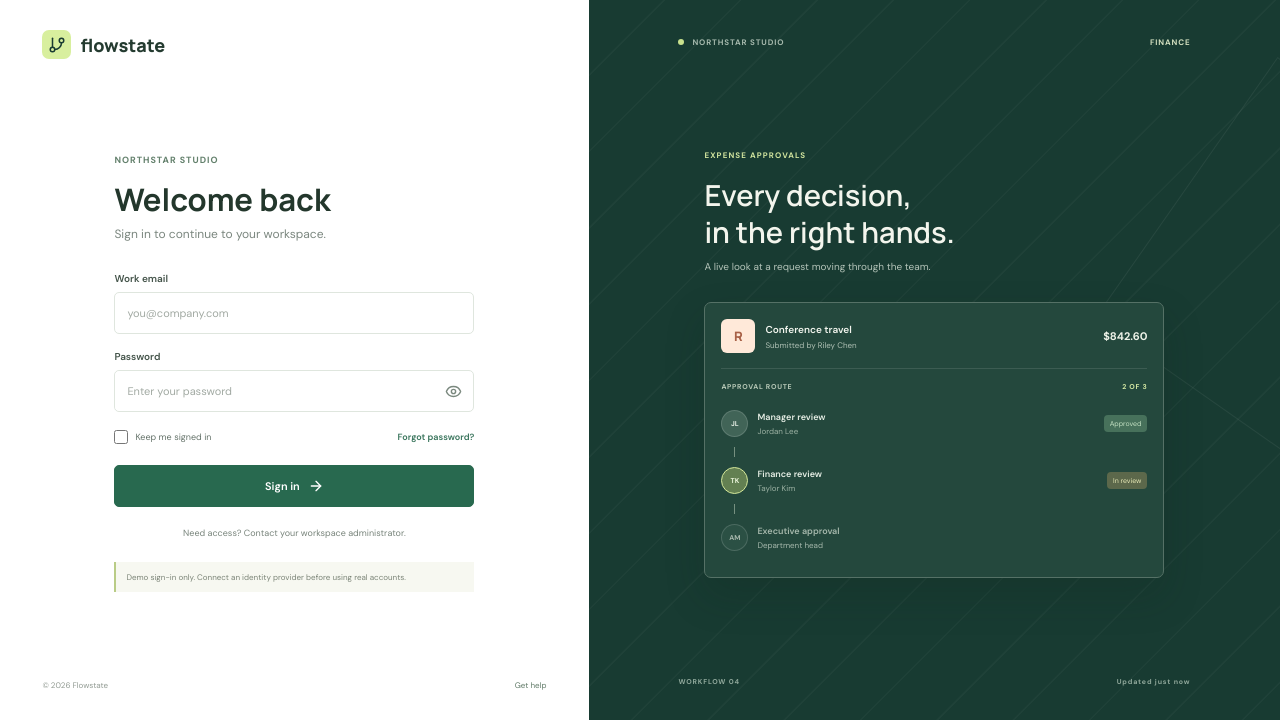
Test: login screen › shows feedback when password reset is requested
Click the button "Forgot password?".
click(436, 437)  # box [398, 427, 474, 447]
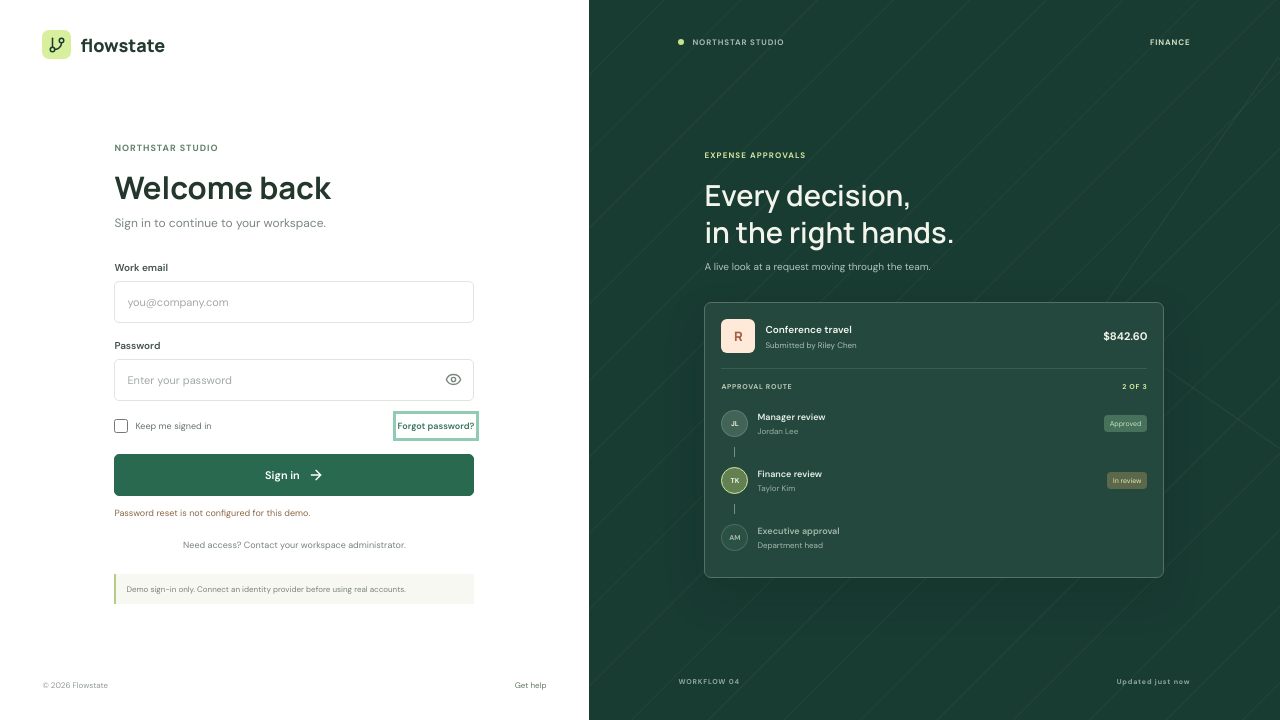
Expected: the message shows "not configured", [114, 507, 310, 519]
